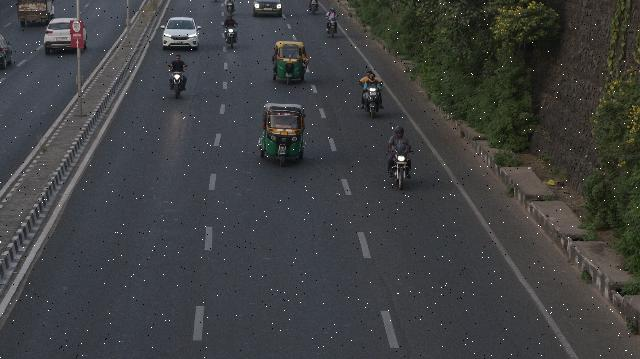With Helmet: (392, 124, 406, 138), (226, 13, 234, 21), (330, 7, 336, 13)
Without Helmet: (369, 74, 375, 80), (175, 56, 181, 62), (367, 72, 371, 78)
